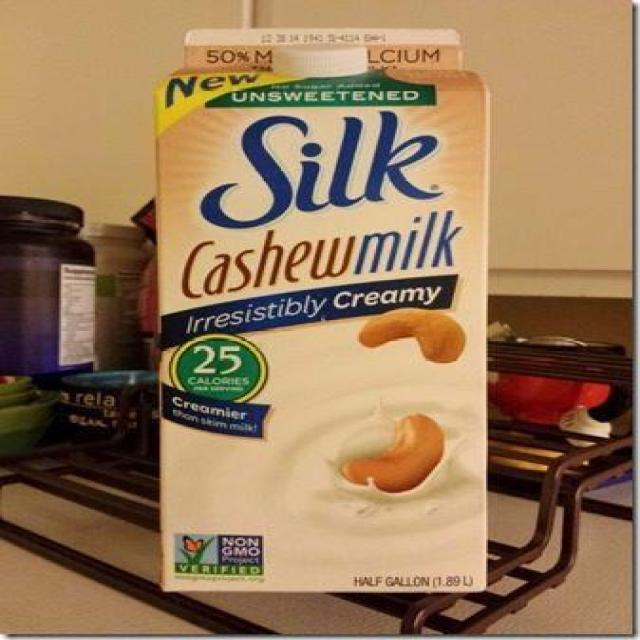drink carton: (156, 24, 488, 593)
plastic bottle cap: (270, 41, 370, 78)
